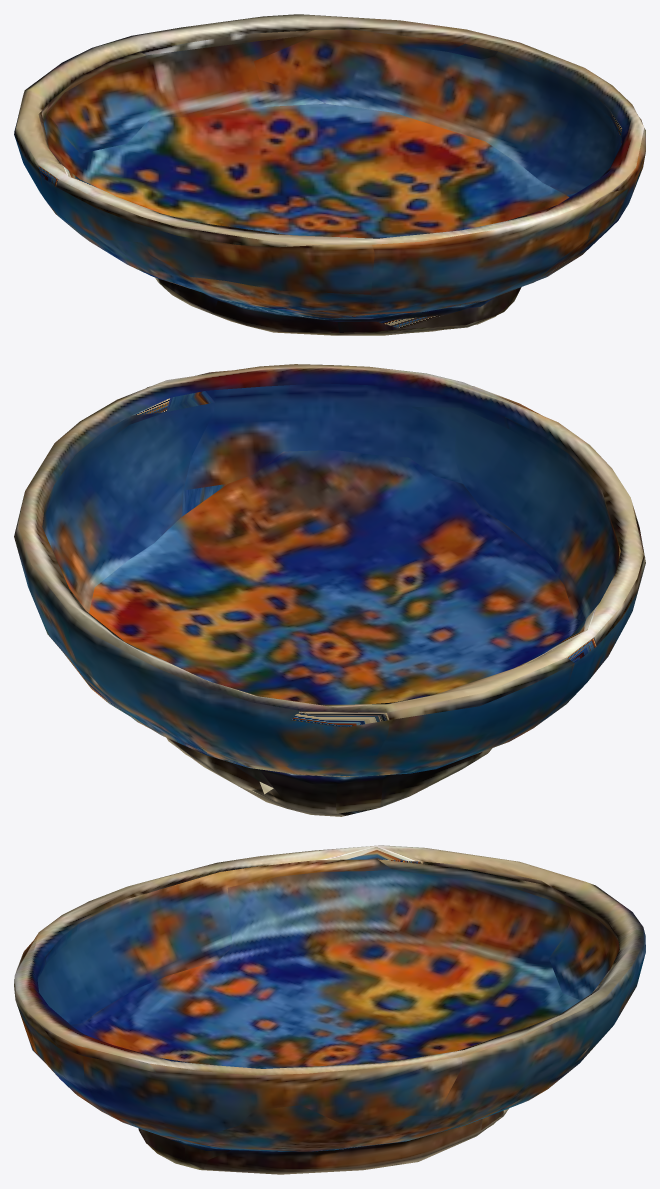
The model's file is plate-lite.glb.
The picture shows the model from 3 angles, top to bottom: view 1: azimuth 30°, elevation 25°; view 2: azimuth 150°, elevation 25°; view 3: azimuth 270°, elevation 25°; orthographic projection. The views are drawn at different scales.
Parts seen in each view (by area): view 1: geometry_0; view 2: geometry_0; view 3: geometry_0.
Boxes of the visible parts, x1,y1,x2,y2 form: geometry_0: (14, 14, 645, 335); geometry_0: (14, 364, 645, 816); geometry_0: (14, 845, 645, 1174).
Size of the model in its own units: 0.8967 by 0.2949 by 0.9593.
1 material, 1 textured.
